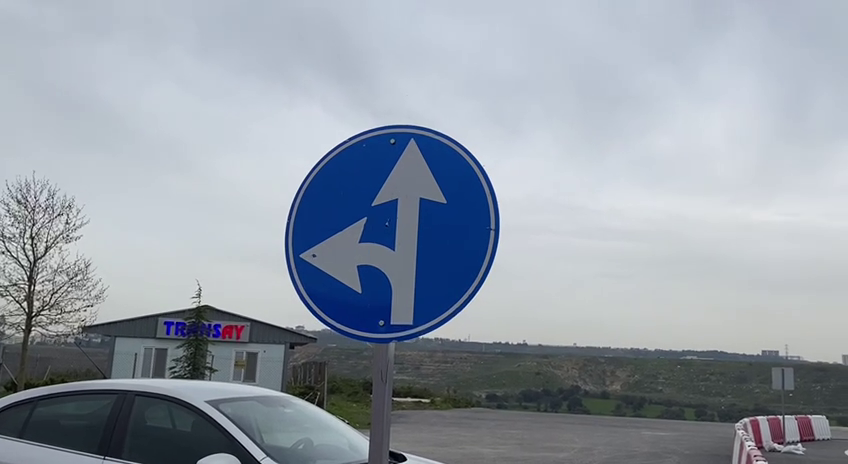forwardAndLeft: (282, 120, 502, 344)
